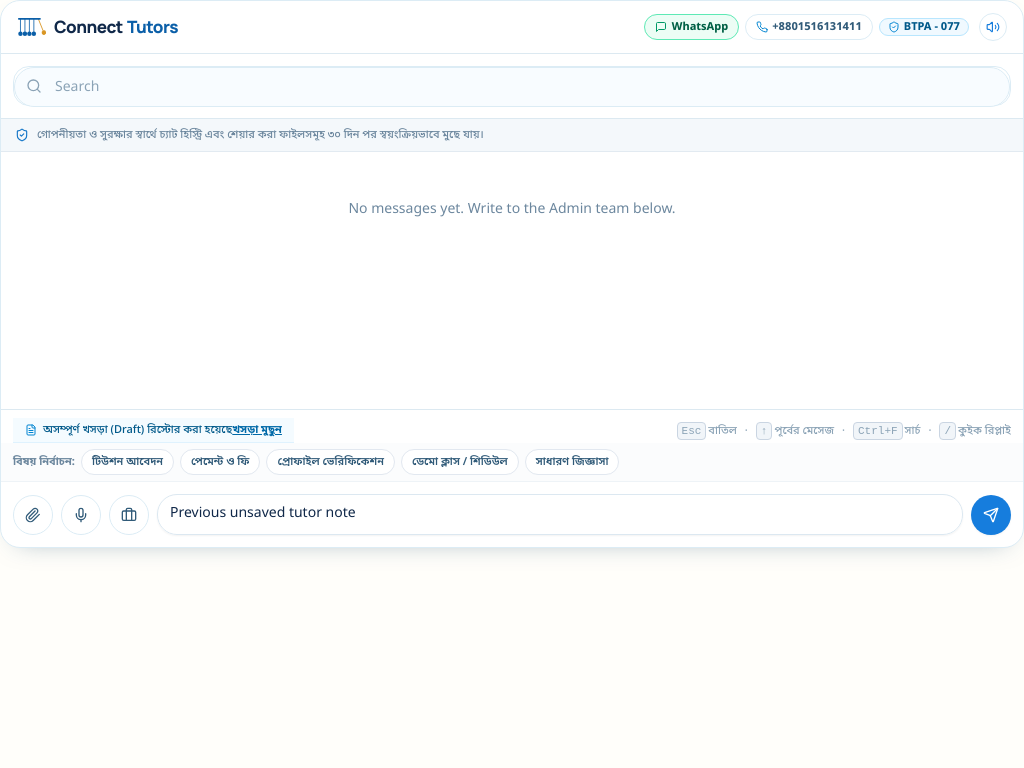
the Tutor's Admin chat panel › restores unsent draft from localStorage and displays indicator
Expected: the text box with placeholder "Write a message…" holds "Previous unsaved tutor note", [157,494,963,535]
Expected: the element with test id "chat-draft-restored-indicator" is shown, [13,418,294,443]
Click the button "খসড়া মুছুন": [257, 430] box [232,422,282,438]
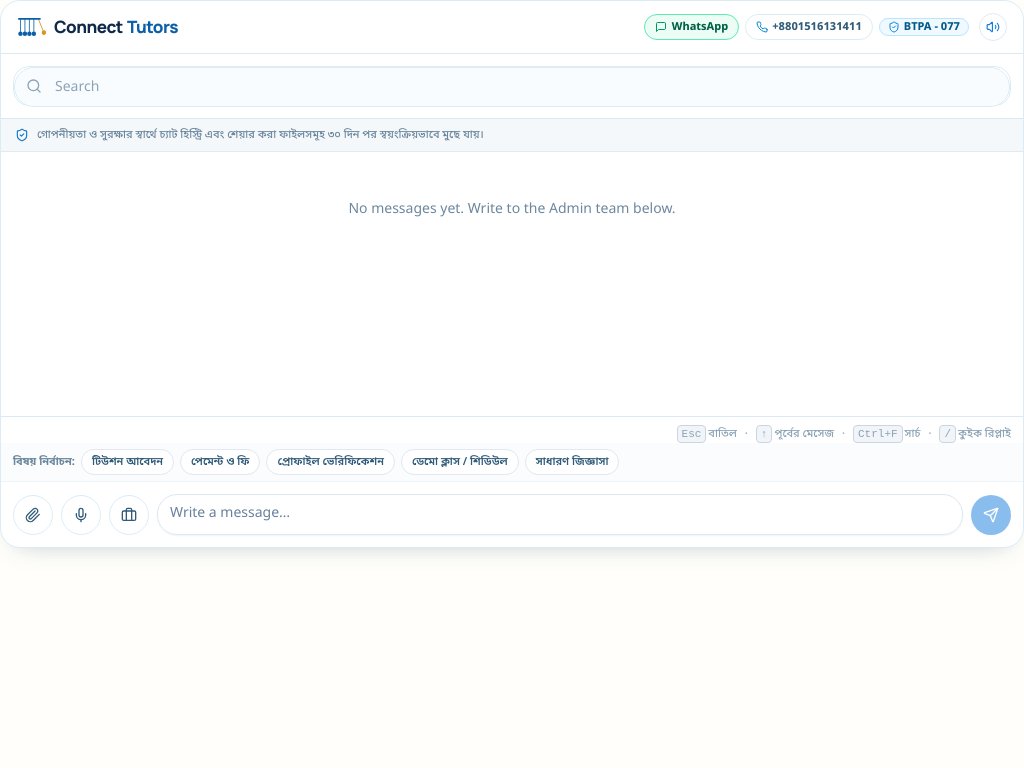
Now the text box with placeholder "Write a message…" is empty, box [157,494,963,535]
Now the element with test id "chat-draft-restored-indicator" is gone
